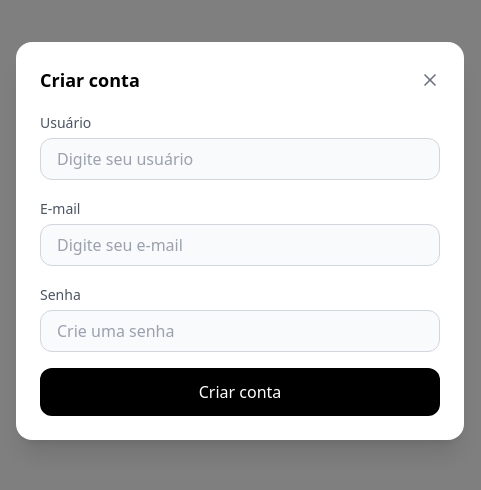
Test: RegisterModal › submit com sucesso › exibe mensagem de sucesso e limpa os campos
In the field with placeholder "Digite seu usuário": (240, 159) [40,138,440,180], type "mdouglas"
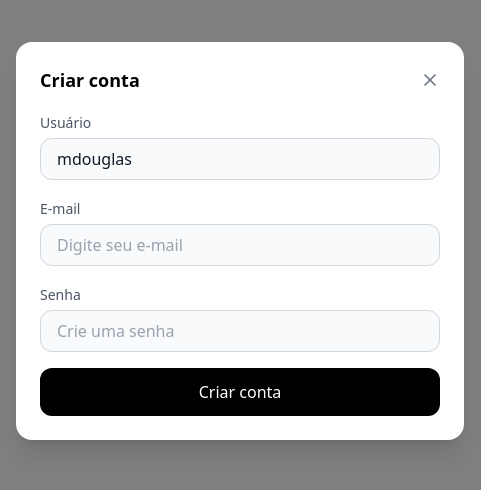
Submit the form from the button "Criar conta", box [40,368,440,416]
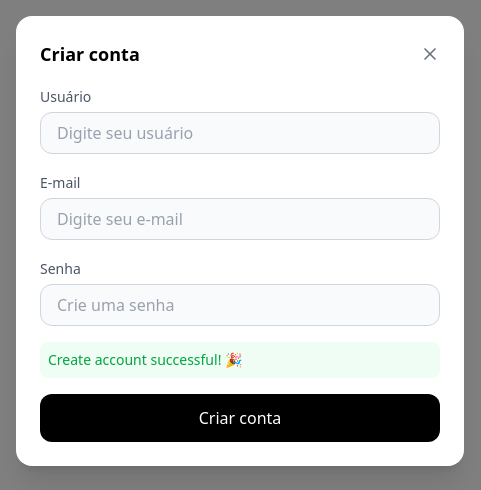
Check: the text "Create account successful! 🎉" is shown, box [40,342,440,378]
Check: the field with placeholder "Digite seu usuário" is empty, box [40,112,440,154]
